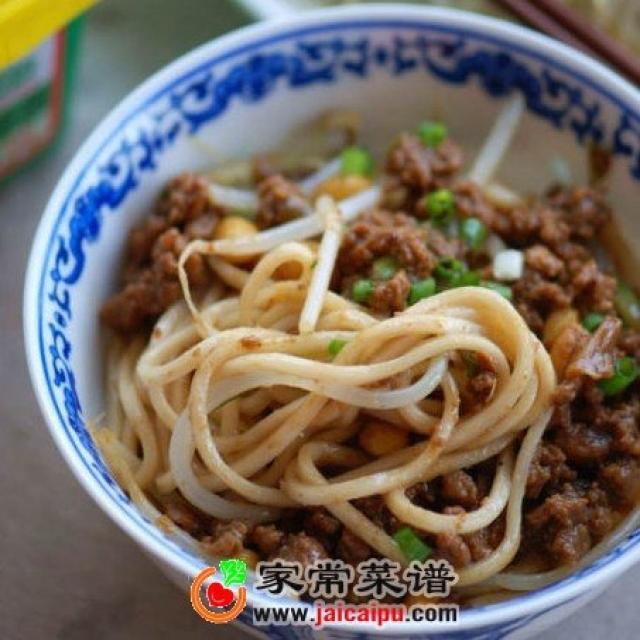面条主食: (20, 8, 636, 628)
